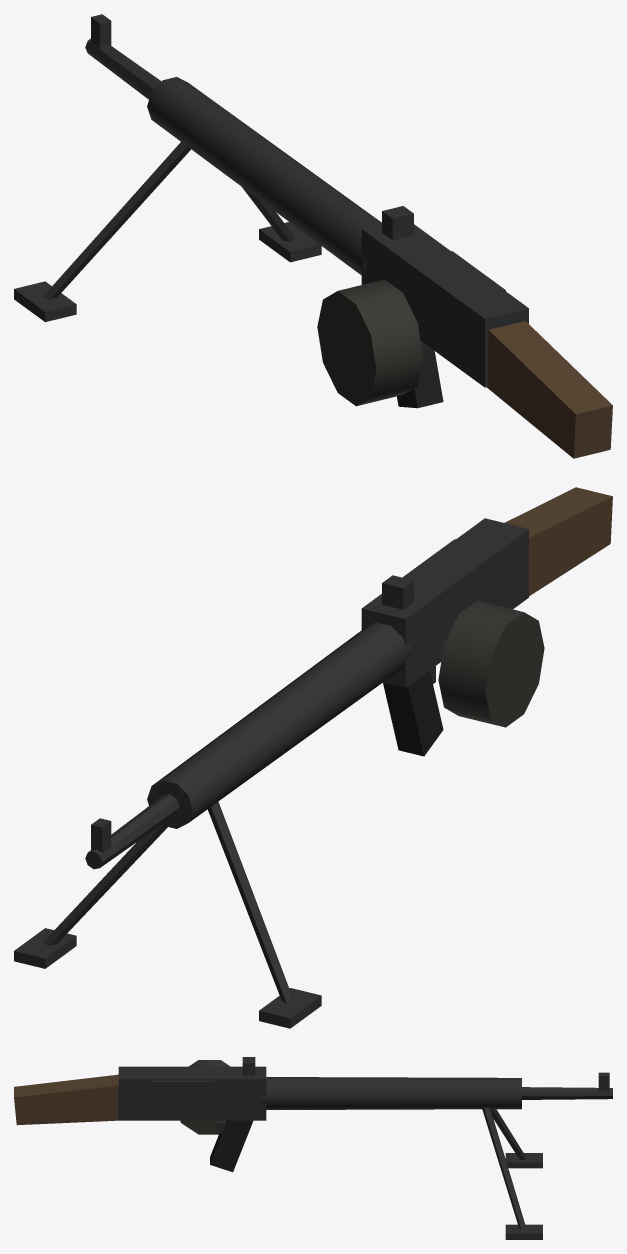
3 views of the same model, one above another, from view 1: azimuth 30°, elevation 25°; view 2: azimuth 150°, elevation 25°; view 3: azimuth 270°, elevation 25° (orthographic). The views are drawn at different scales.
Parts seen in each view (by area): view 1: mg42; view 2: mg42; view 3: mg42.
Part boxes in pixels (x1=…): mg42: x1=14, y1=14, x2=612, y2=458; mg42: x1=14, y1=487, x2=612, y2=1028; mg42: x1=14, y1=1057, x2=612, y2=1239.
Bounding box in the file's own units: 0.388 × 0.313 × 1.22.
